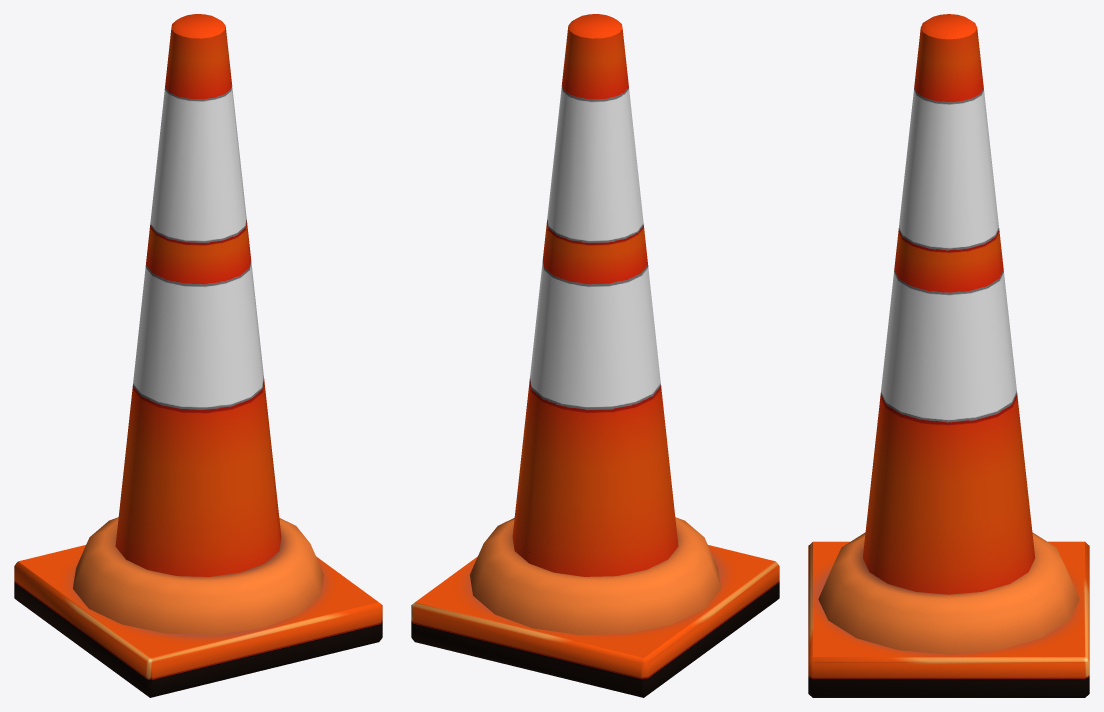
The picture shows the model from 3 angles, left to right: view 1: azimuth 30°, elevation 25°; view 2: azimuth 150°, elevation 25°; view 3: azimuth 270°, elevation 25°; orthographic projection. The views are drawn at different scales.
Parts seen in each view (by area): view 1: CautionConeLarge; view 2: CautionConeLarge; view 3: CautionConeLarge.
Boxes of the visible parts, x1=… form: CautionConeLarge: x1=14, y1=14, x2=382, y2=697; CautionConeLarge: x1=411, y1=14, x2=779, y2=697; CautionConeLarge: x1=808, y1=14, x2=1089, y2=697.
Bounding box in the file's own units: 62 × 62 × 150.
Materials: 1 (1 with a texture image).
